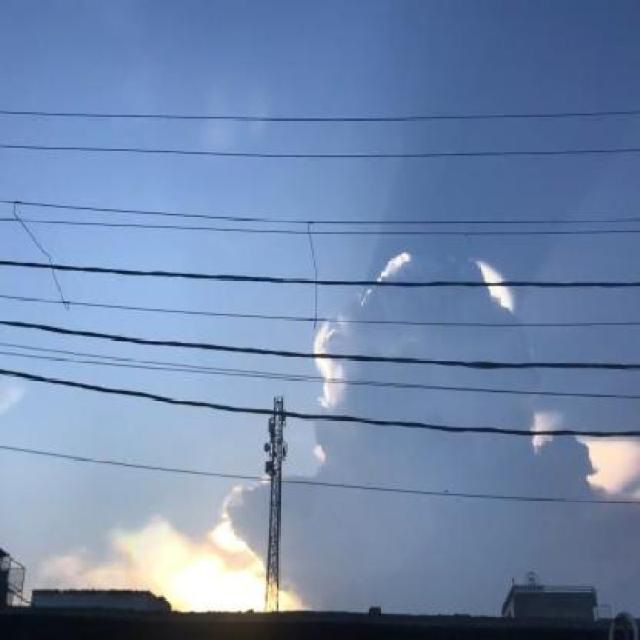bird: (442, 488, 450, 494)
